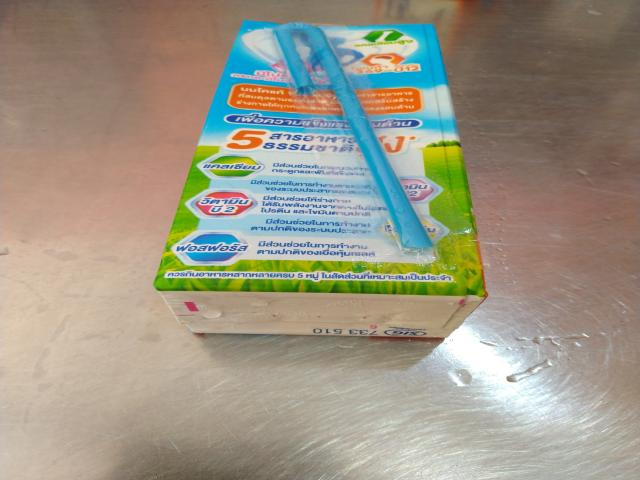drink_box: (154, 8, 527, 344)
